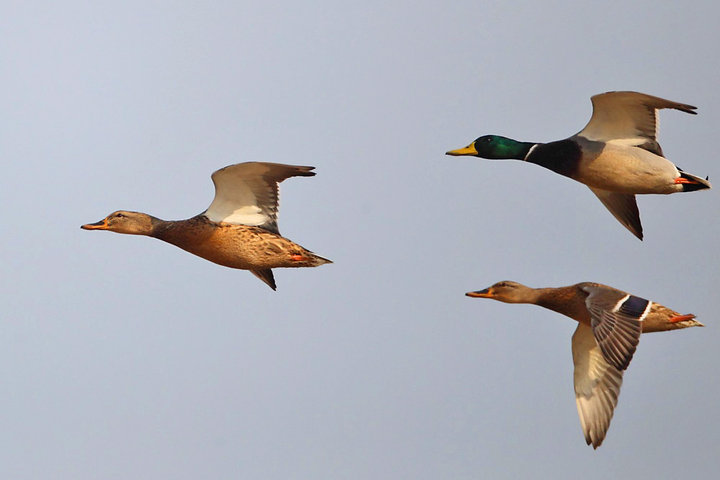bird: (441, 89, 715, 243), (463, 273, 706, 446), (79, 156, 334, 293)
